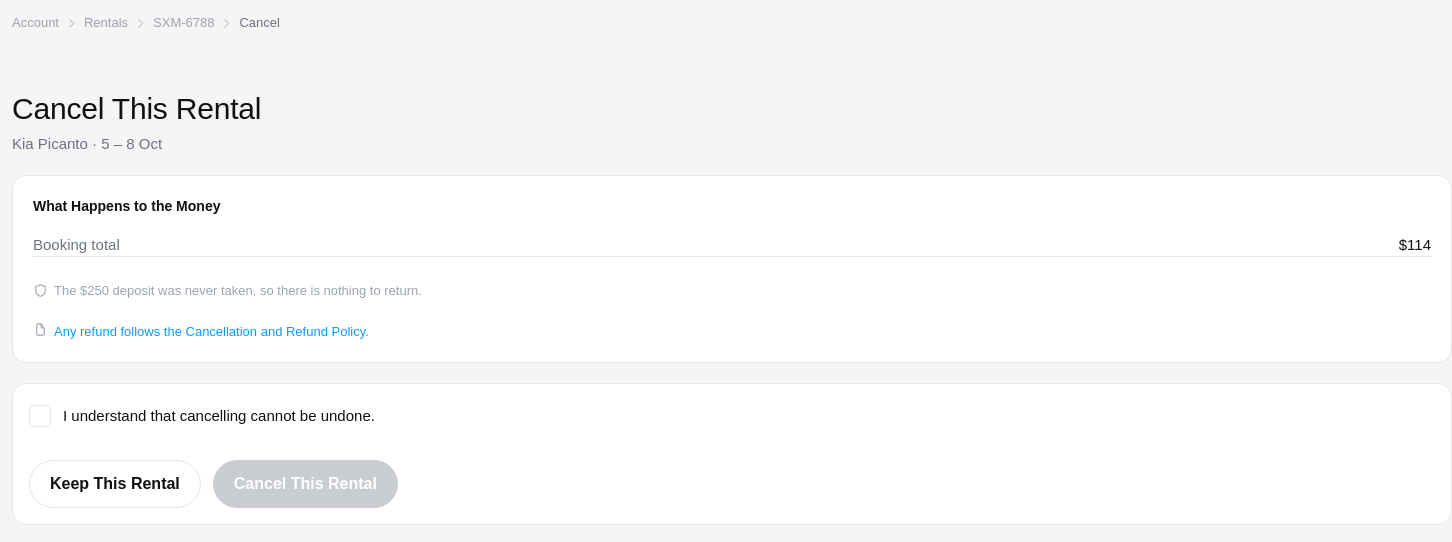
Test: cancelling a rental › cancels through the backend
expect the text "Kia Picanto · 5 – 8 Oct" is shown: met, box [12,135,162,152]
Step 1. Click the checkbox → (202, 416), box [29,405,375,427]
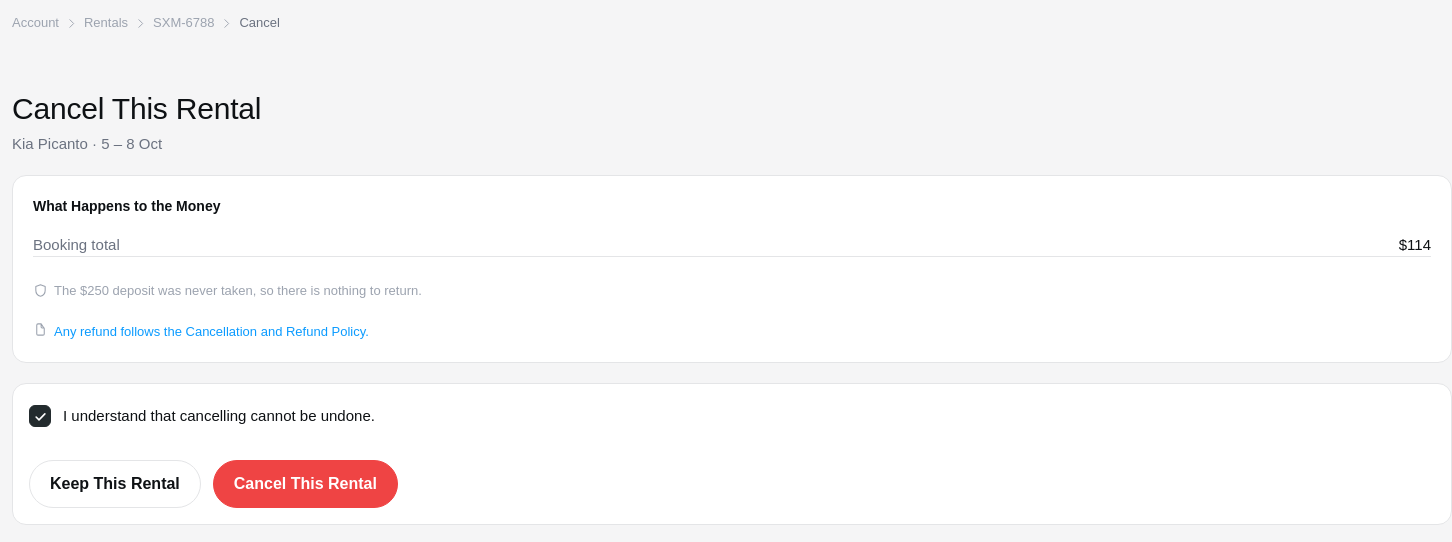
Step 2. Click the button "Cancel This Rental" → (305, 484), box [213,460,398,508]
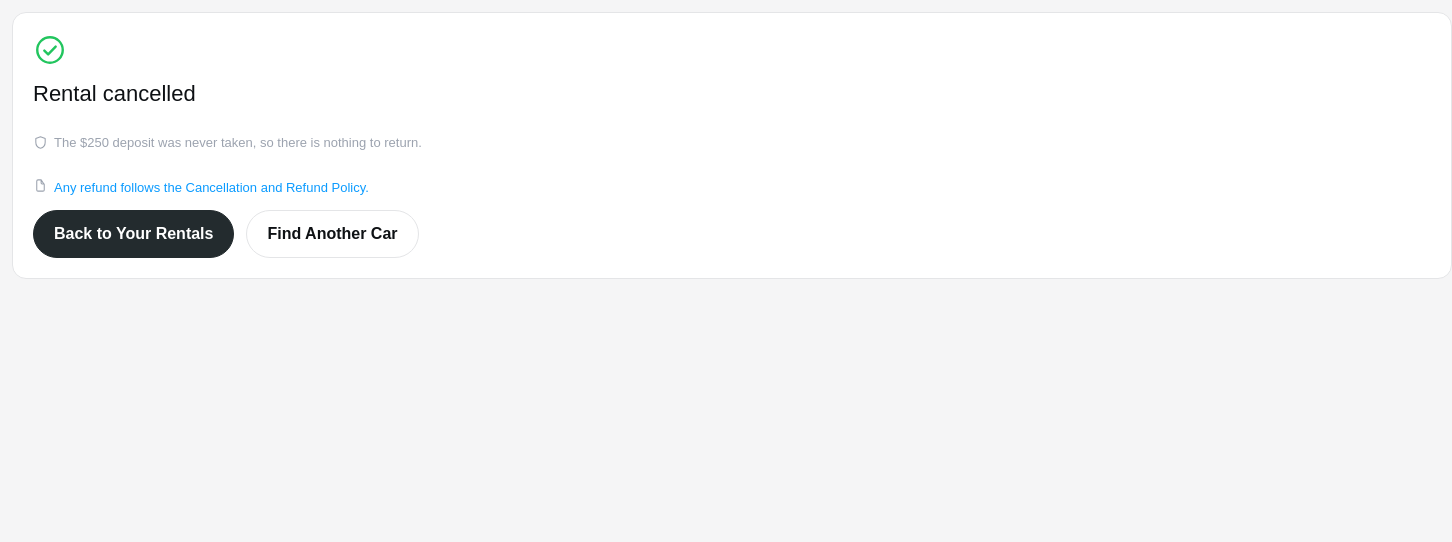
expect the heading "Rental cancelled" is shown: met, box [33,81,196,106]
